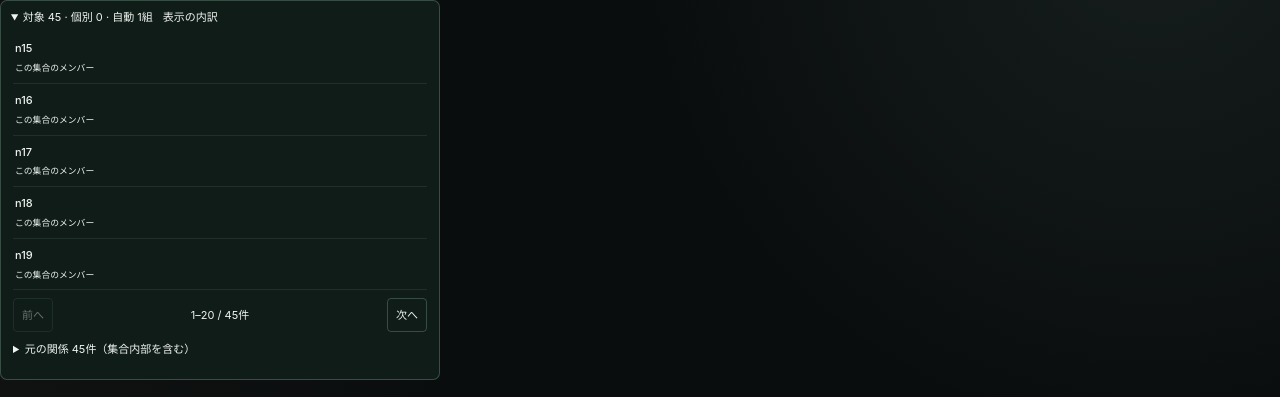
Test: filter shrinking an inspected stable group recovers the final available member page
(page scrolled)
Click the button "次へ".
click(407, 316)  # box [387,298,427,332]
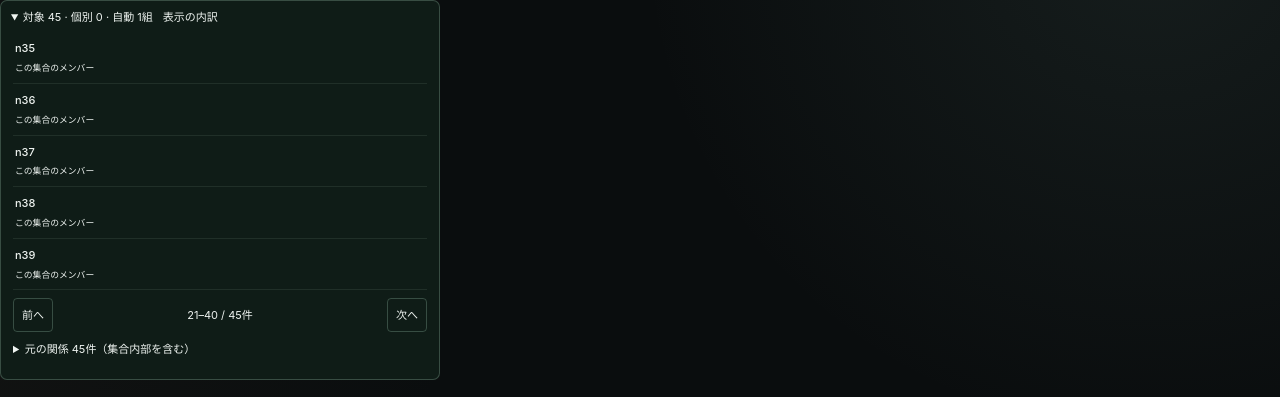
Click the button "次へ".
click(407, 316)  # box [387,298,427,332]
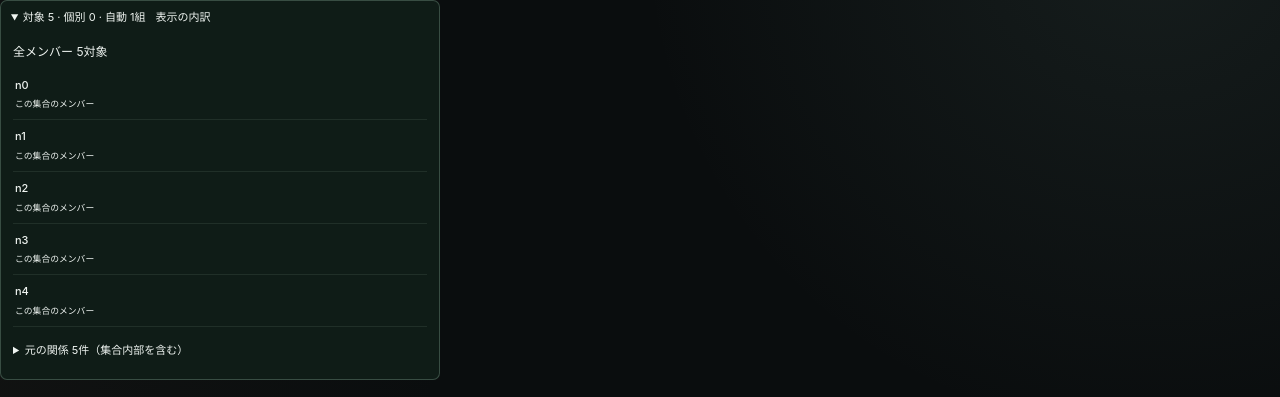
Now the number of buttons is 5, box [13,69,427,119]; [13,120,427,171]; [13,172,427,222]; [13,224,427,274]; [13,275,427,326]
Now the button "n4 この集合のメンバー" is shown, box [13,275,427,326]
